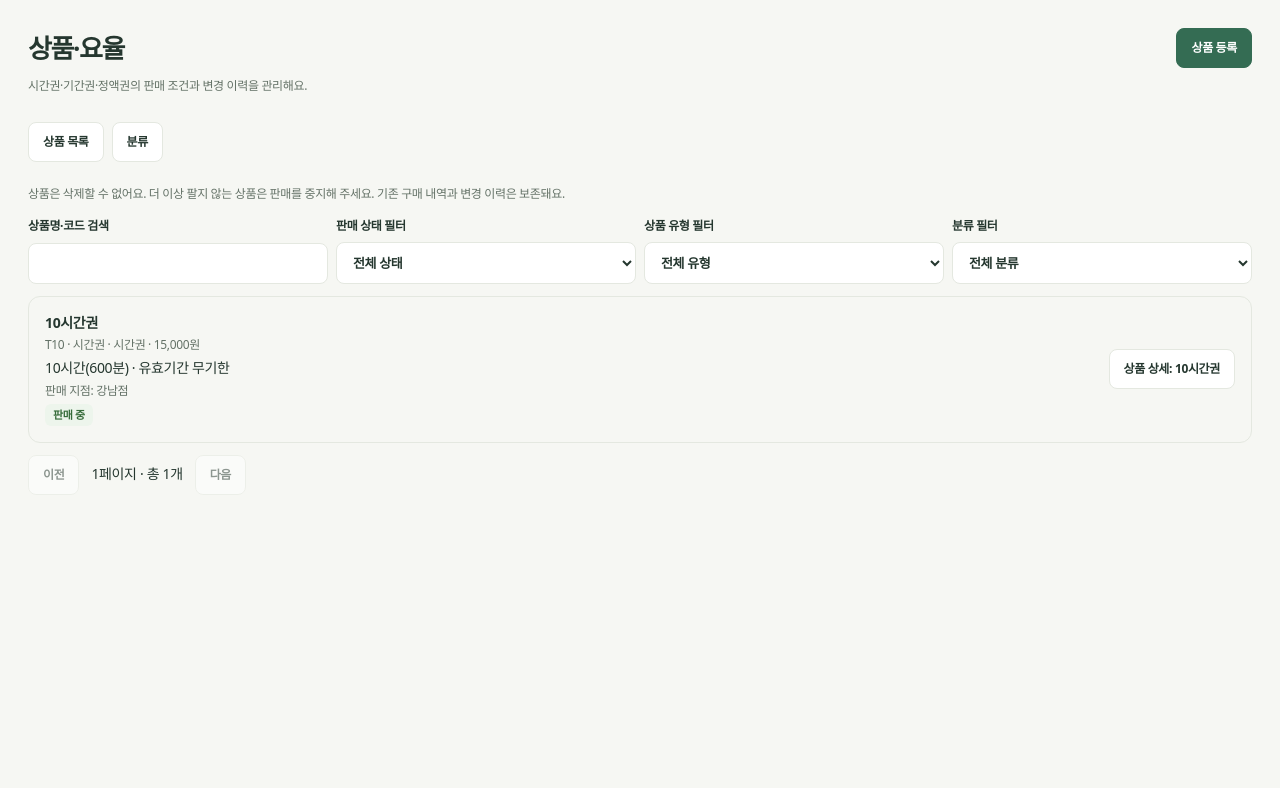
Scenario: keeps the branch selection on a version conflict so it can be compared
Click the button "상품 상세: 10시간권".
click(1172, 369)  # box [1108,349,1235,389]
(page scrolled)
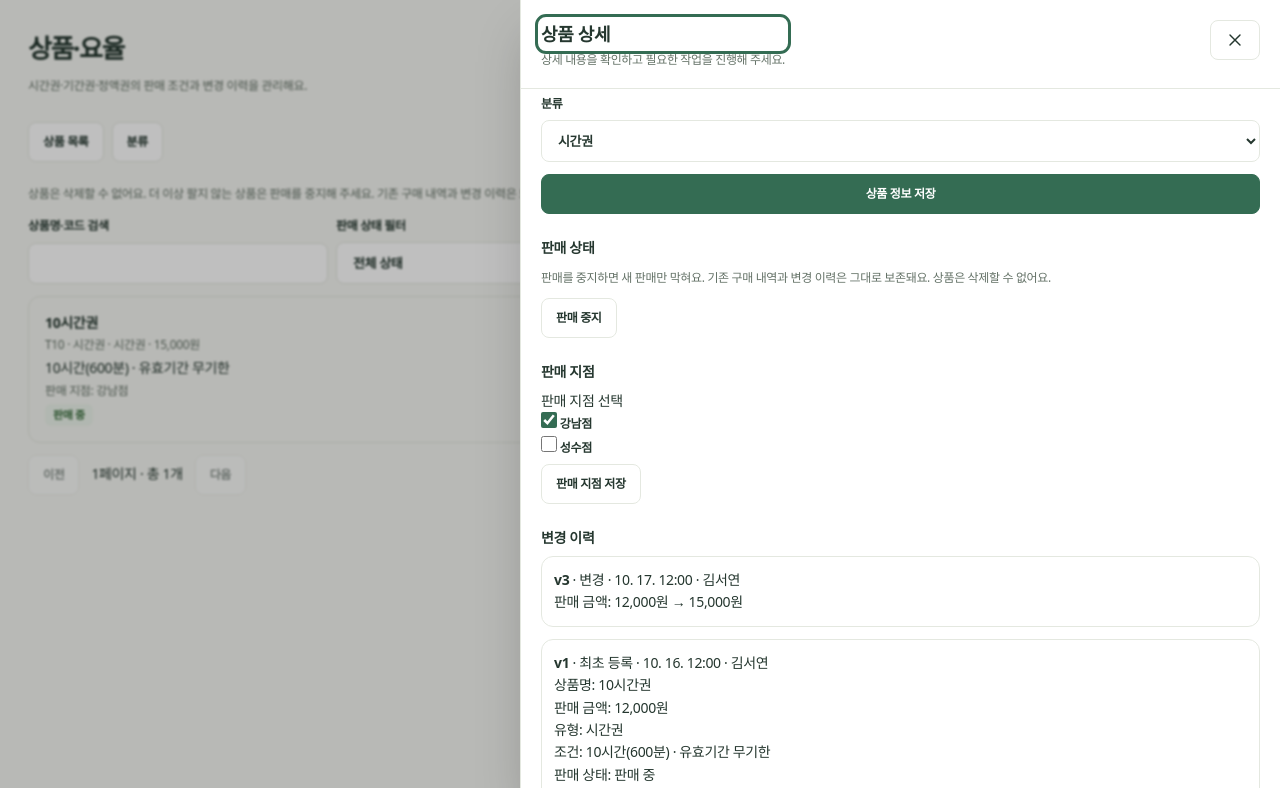
Click the checkbox labelled "성수점".
click(549, 444)  # box [541,436,557,452]
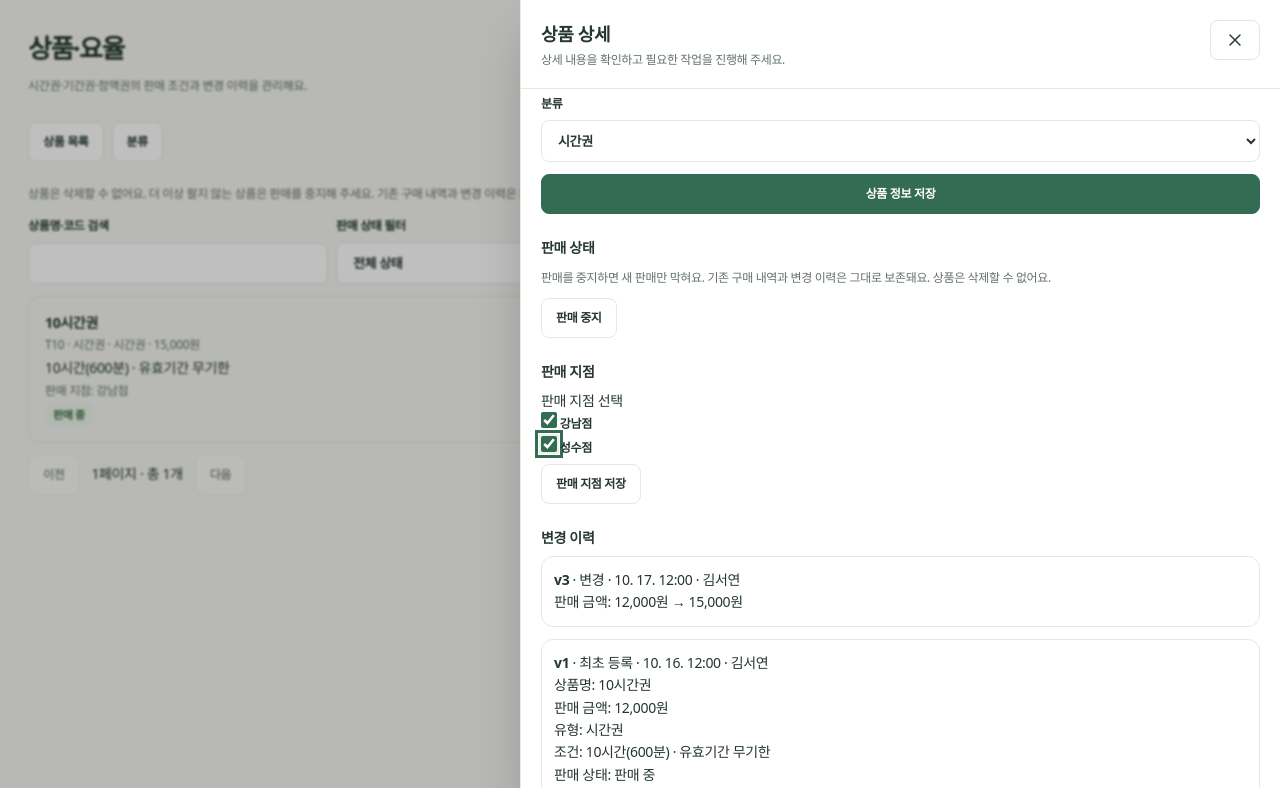
Click the button "판매 지점 저장".
click(591, 484)  # box [541,464,641,504]
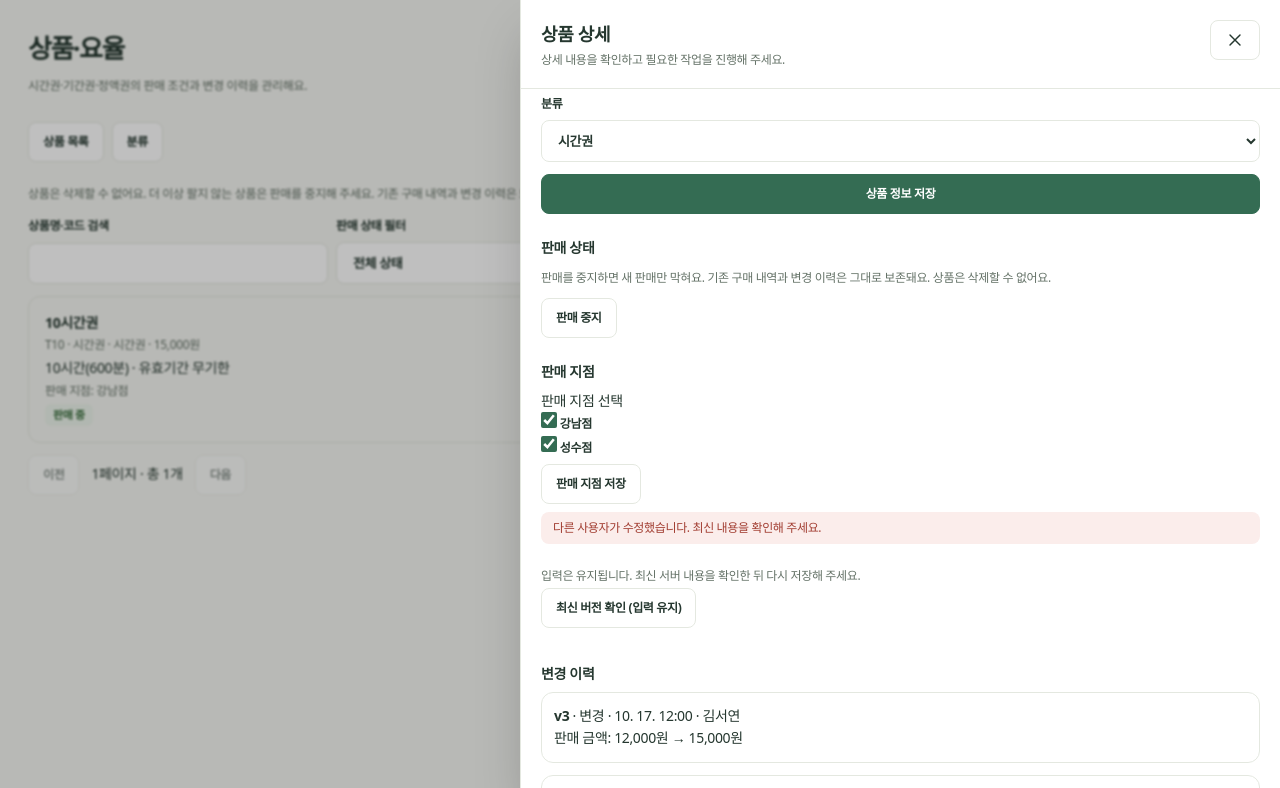
Expected: the checkbox labelled "성수점" is checked, [541,436,557,452]
Expected: the button "최신 버전 확인 (입력 유지)" is shown, [541,588,696,628]
